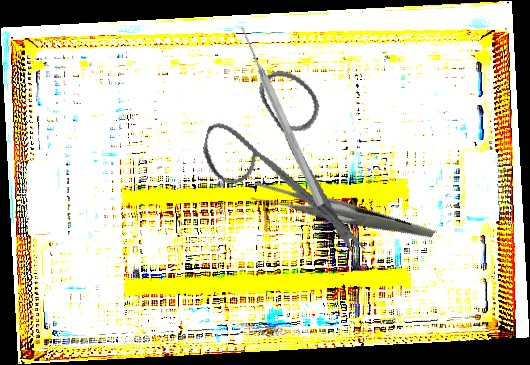Dressing Forceps: (247, 137, 436, 292)
Iris Scissors: (186, 56, 401, 263)
Pusher: (236, 24, 327, 208)
